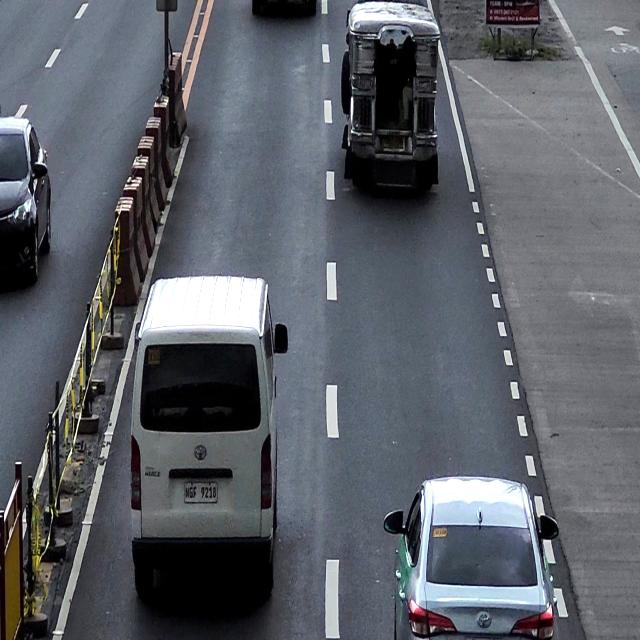Car: (130, 274, 288, 601), (382, 476, 560, 640), (0, 112, 51, 282)
Jeep: (340, 0, 440, 193)
License-Plate: (182, 479, 219, 504)
